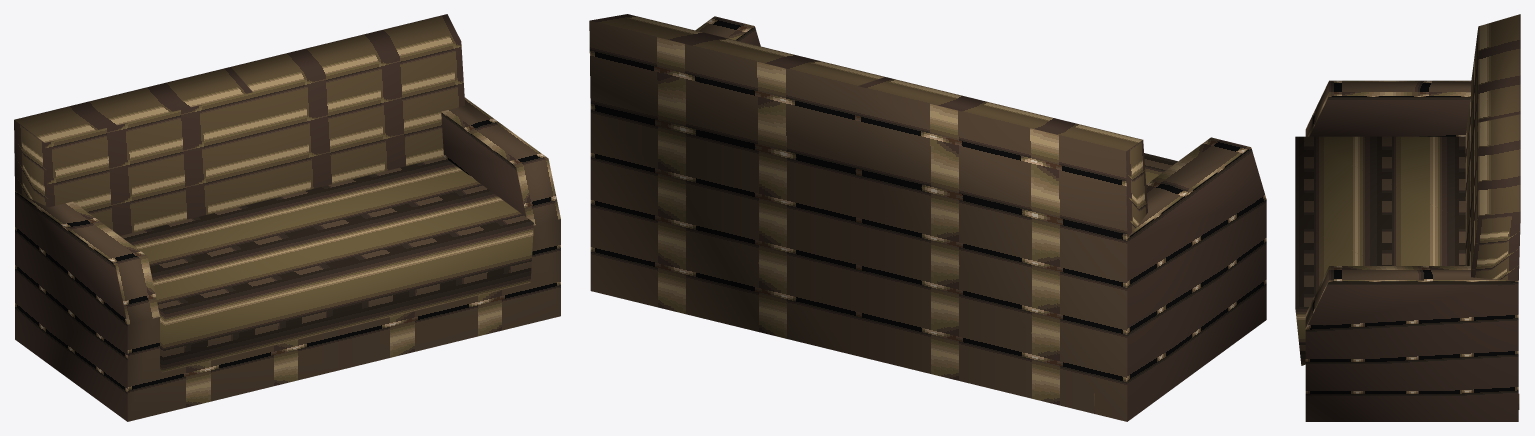
Rendered from 3219IMSD01_05.gltf.
3 renders of one model, left to right at view 1: azimuth 30°, elevation 25°; view 2: azimuth 150°, elevation 25°; view 3: azimuth 270°, elevation 25°, orthographic. The views are drawn at different scales.
Visible parts, largest first — view 1: 3219IMSD01_05; view 2: 3219IMSD01_05; view 3: 3219IMSD01_05.
Part boxes in pixels (x1=…): 3219IMSD01_05: x1=14, y1=14, x2=560, y2=421; 3219IMSD01_05: x1=589, y1=14, x2=1266, y2=421; 3219IMSD01_05: x1=1295, y1=14, x2=1520, y2=421.
Size of the model in its own units: 1.89 by 0.9143 by 0.9001.
Materials: 4 (4 with a texture image).
